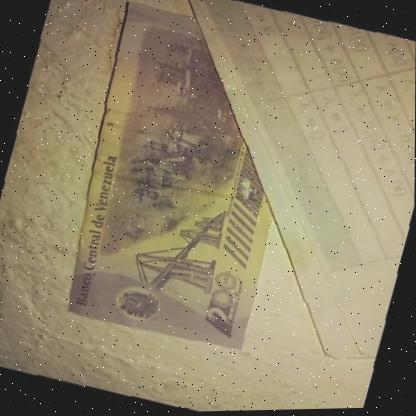two_hundred-back-vef: (44, 0, 323, 360)
